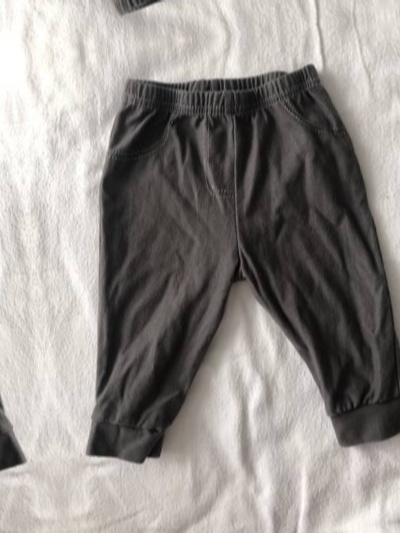Pants: (28, 36, 400, 482), (0, 82, 42, 528), (0, 0, 371, 39)
